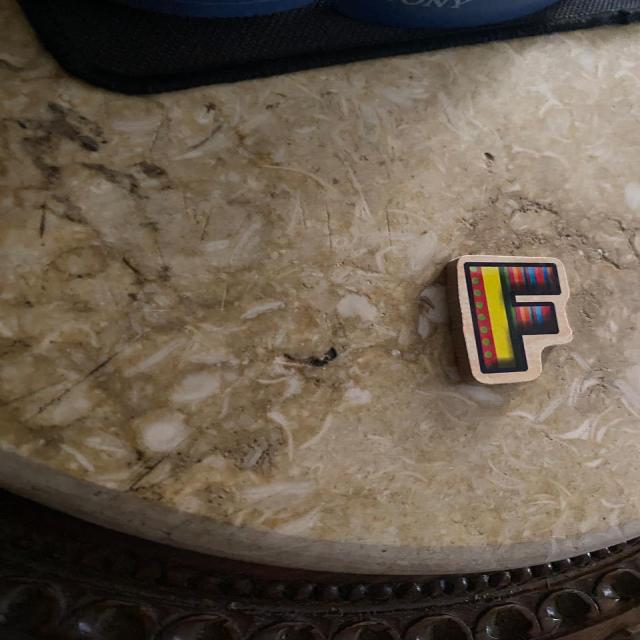F: (448, 254, 572, 384)
